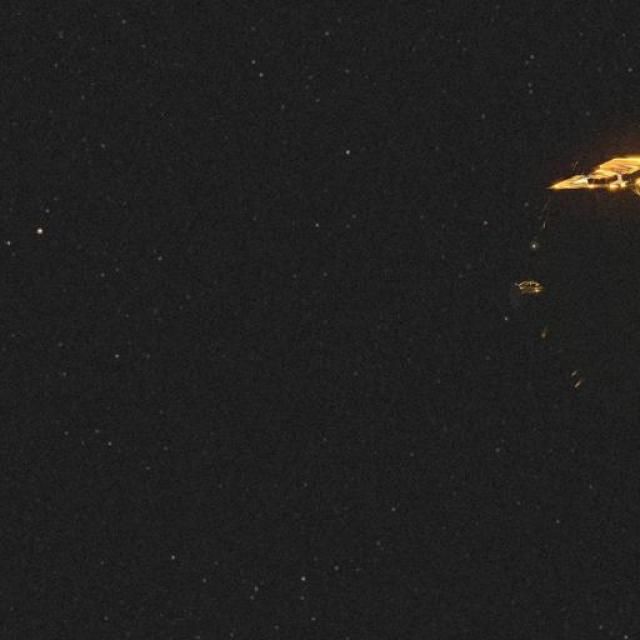lisa_pathfinder: (487, 113, 640, 451)
